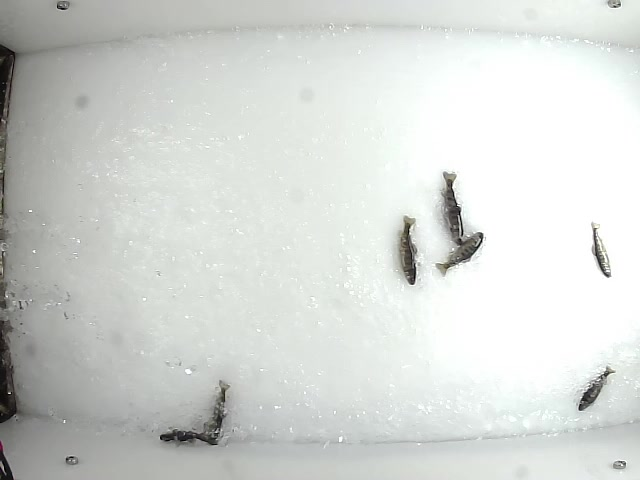fish: (435, 230, 483, 276), (439, 170, 466, 247), (575, 364, 617, 412), (203, 379, 232, 447), (397, 210, 419, 287), (588, 221, 613, 278), (158, 428, 219, 447)
